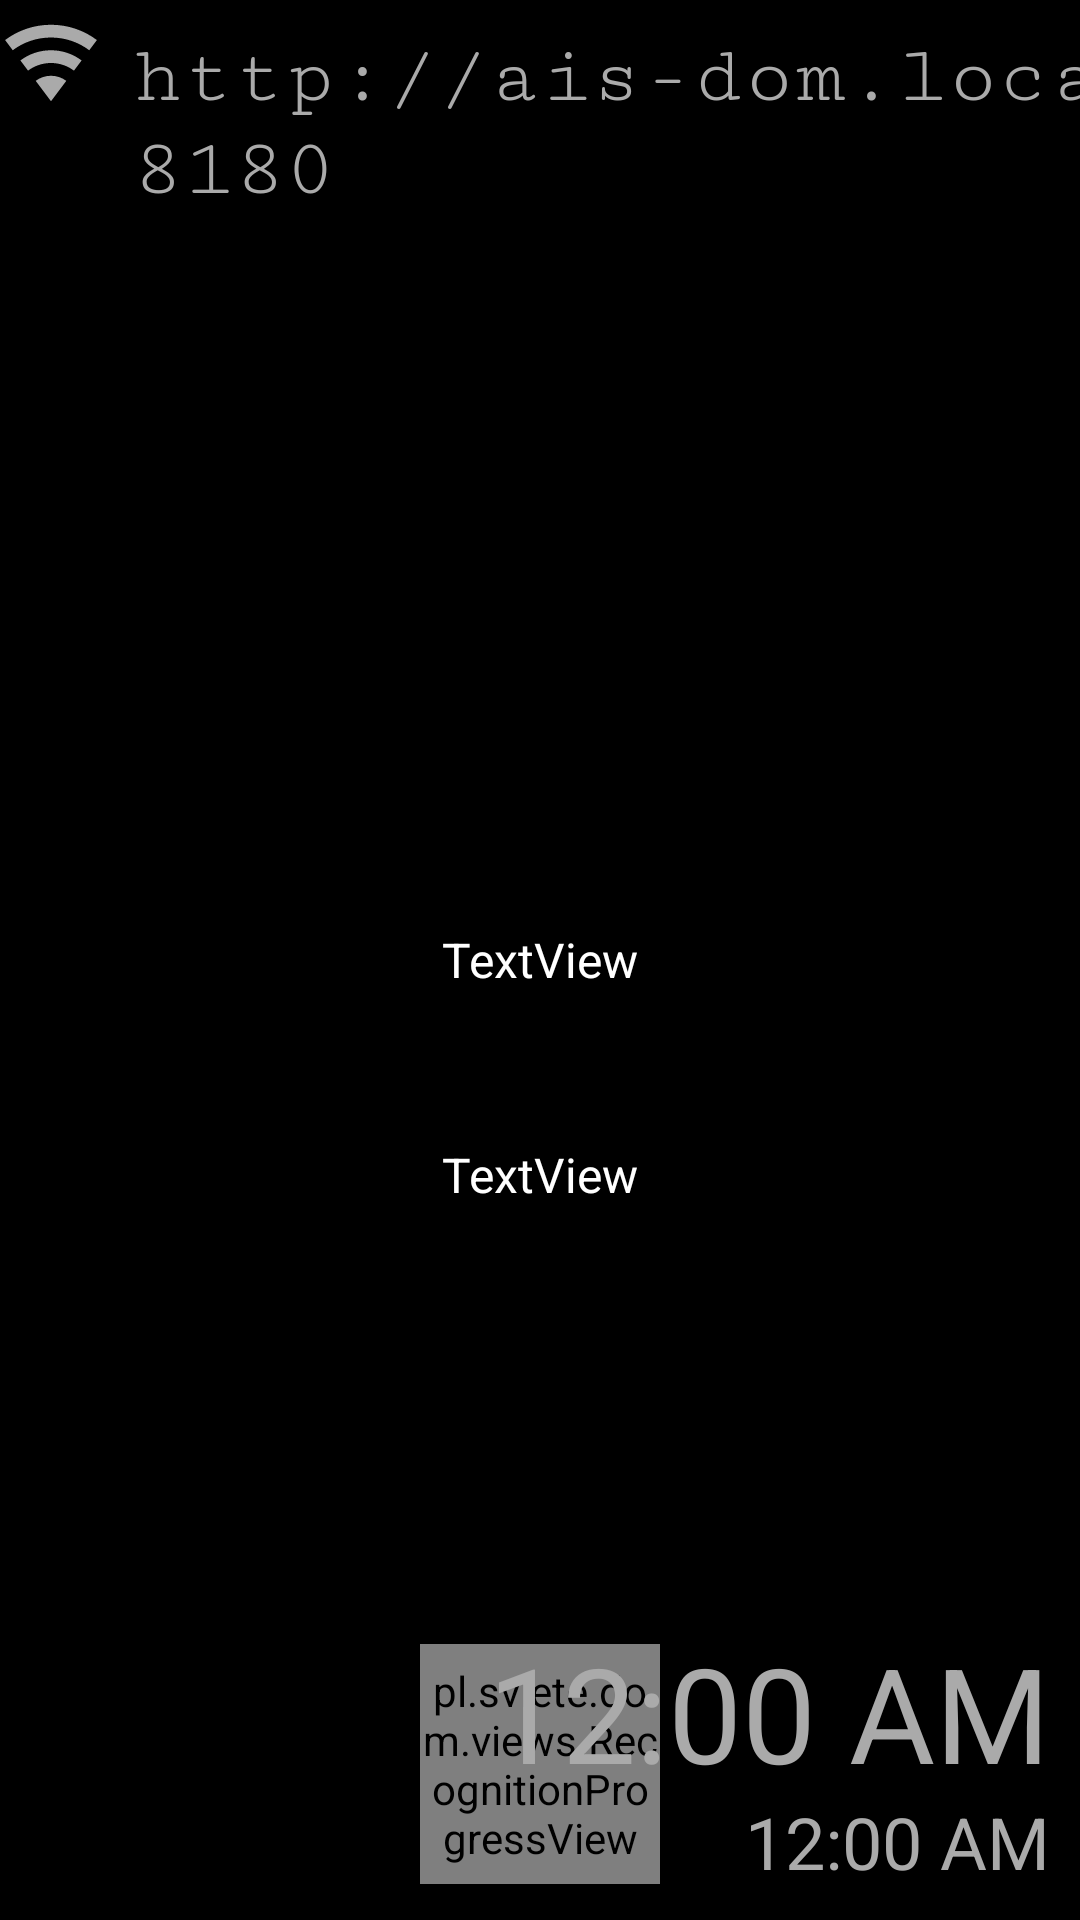

Icon bounding boxes for this 1080px×1920px phone screenshot, format [x1=x1, y1=y1, x2=x2, y2=y2]:
conn wifi: [x1=5, y1=24, x2=97, y2=101]
